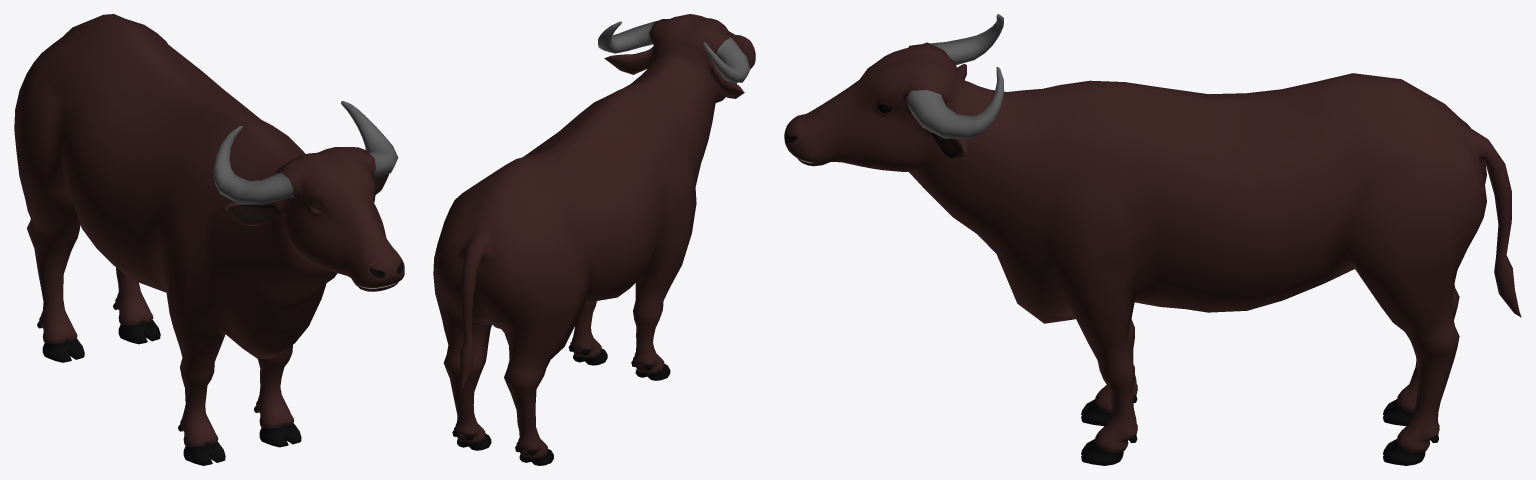
File: water_buffalo.obj
3 renders of one model, left to right at view 1: azimuth 30°, elevation 25°; view 2: azimuth 150°, elevation 25°; view 3: azimuth 270°, elevation 25°, orthographic. The views are drawn at different scales.
Parts seen in each view (by area): view 1: water_buffalo; view 2: water_buffalo; view 3: water_buffalo.
Boxes of the visible parts, x1=… form: water_buffalo: x1=14, y1=14, x2=404, y2=465; water_buffalo: x1=433, y1=14, x2=755, y2=465; water_buffalo: x1=784, y1=14, x2=1521, y2=465.
Size of the model in its own units: 0.803 by 1.57 by 2.65.
